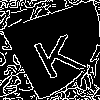K: (25, 25, 88, 81)
